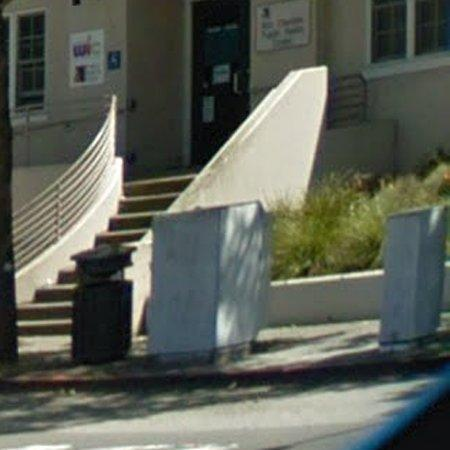stairs: (96, 175, 194, 244), (17, 270, 77, 336)
